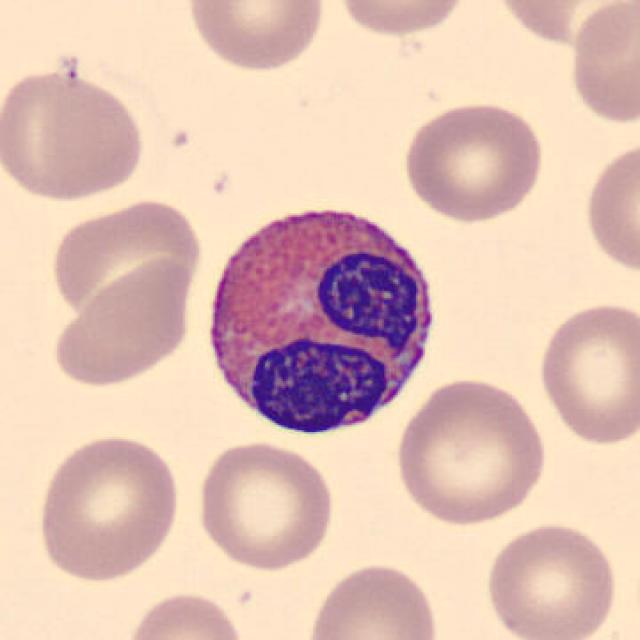Eosinophil: (196, 187, 448, 449)
RBC: (389, 374, 551, 529), (32, 428, 183, 584), (0, 63, 149, 206), (46, 196, 206, 326), (192, 435, 338, 573), (48, 258, 199, 390), (398, 97, 548, 224), (480, 518, 620, 640), (534, 296, 638, 448), (302, 559, 444, 640), (183, 0, 329, 74), (564, 0, 638, 127), (579, 135, 640, 278), (489, 0, 635, 49), (122, 587, 250, 640), (330, 0, 474, 41)
